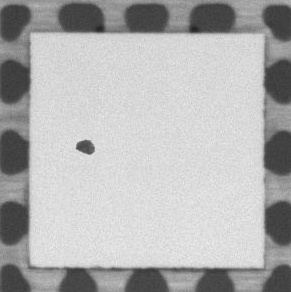DIE_INK: (73, 137, 96, 157)
